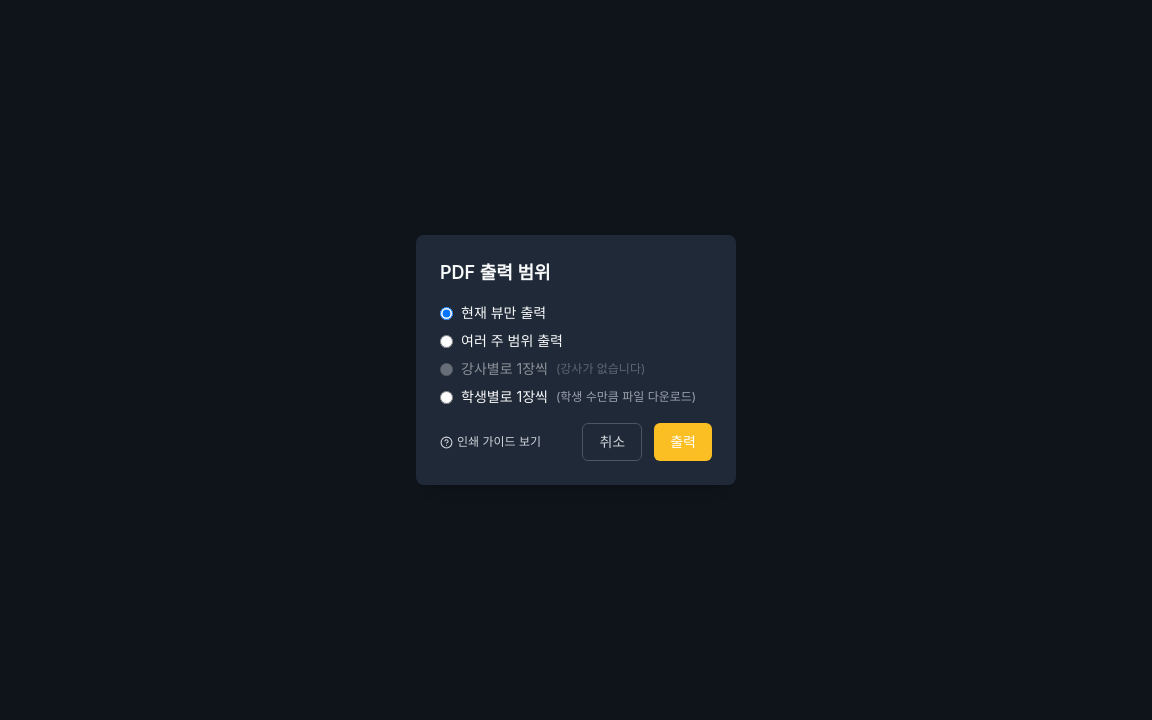
Scenario: PdfExportRangeModal — per-student (PR #428) › 0명 선택 시 출력 버튼 disabled + '학생을 1명 이상' 에러
Click the radio button labelled "학생별로 1장씩": (446, 397) [440,390,453,404]
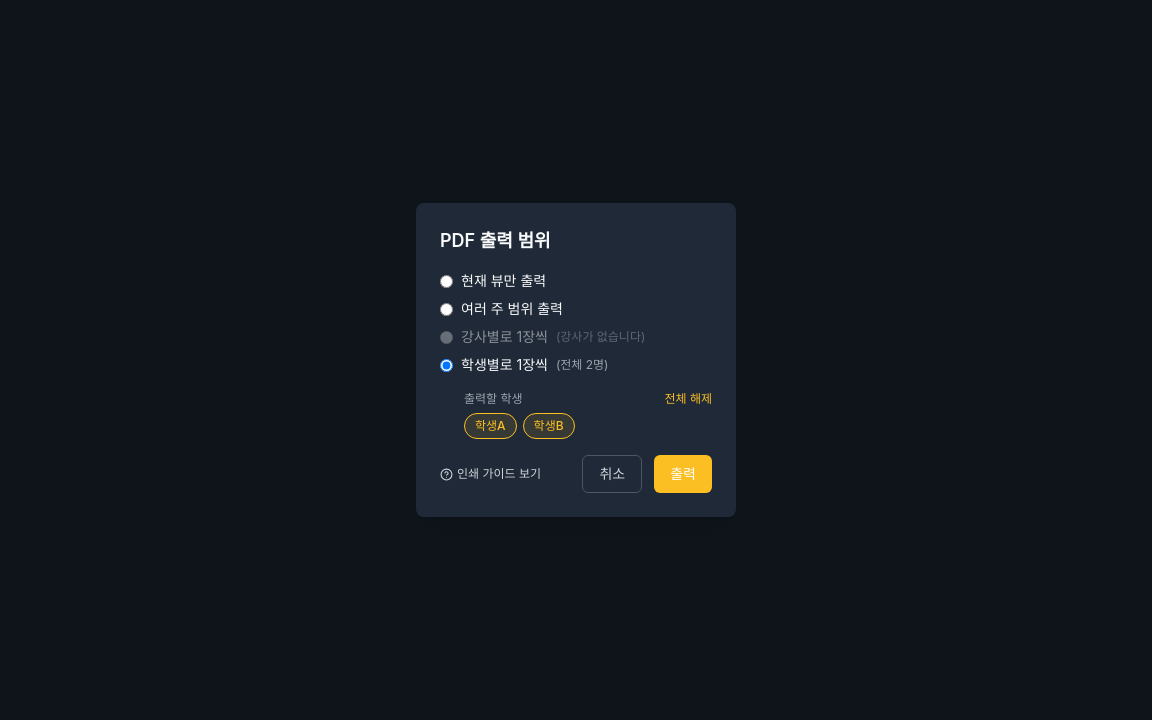
Click the button "전체 해제": (688, 399) [664,391,712,407]
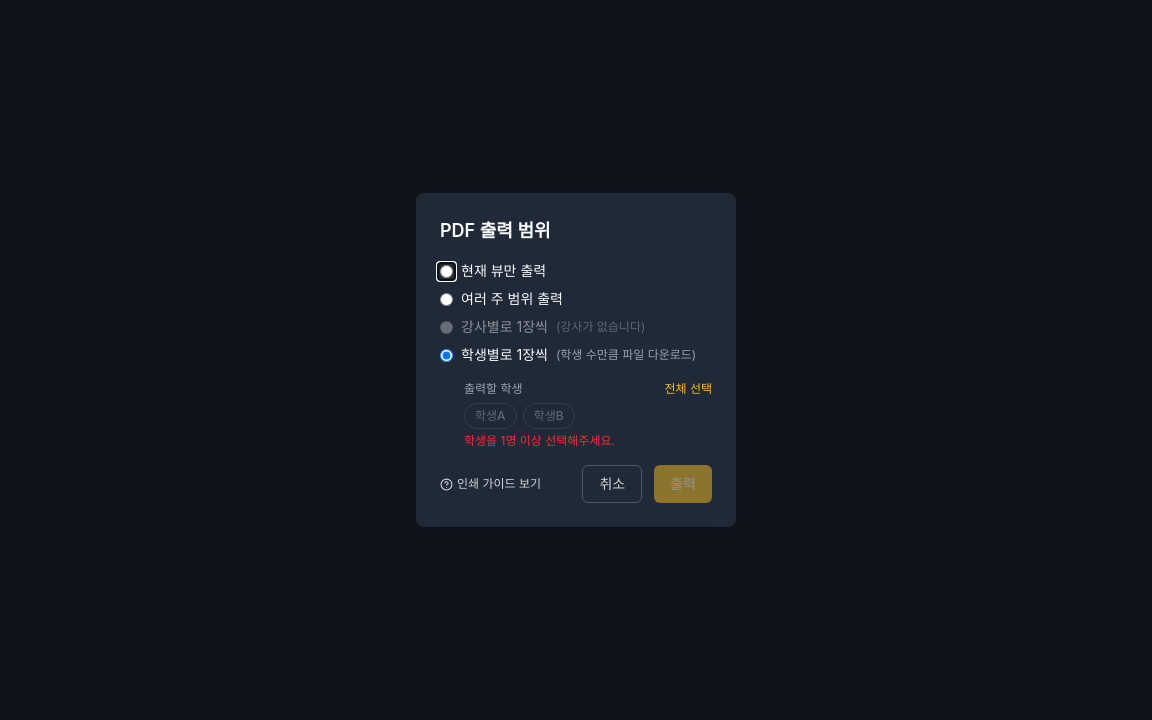
Result: the button "출력" is disabled at [654,465,712,503]
Result: the text "학생을 1명 이상 선택해주세요." is shown at [464,433,615,448]
